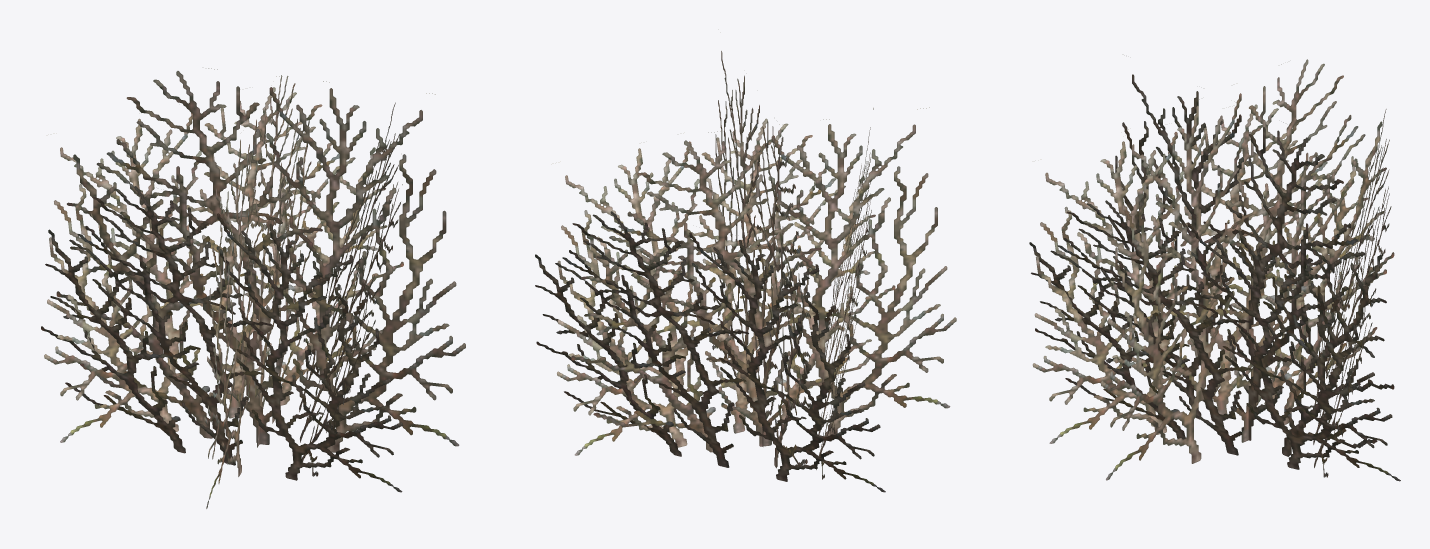
File: OZ_02_hd_grass02A.glb
The picture shows the model from 3 angles, left to right: view 1: azimuth 30°, elevation 25°; view 2: azimuth 150°, elevation 25°; view 3: azimuth 270°, elevation 25°; orthographic projection. The views are drawn at different scales.
Parts seen in each view (by area): view 1: OM_02_hd_grass02A; view 2: OM_02_hd_grass02A; view 3: OM_02_hd_grass02A.
Boxes of the visible parts, x1,y1,x2,y2 form: OM_02_hd_grass02A: (41, 68, 465, 508); OM_02_hd_grass02A: (535, 51, 956, 492); OM_02_hd_grass02A: (1029, 59, 1400, 481).
Bounding box in the file's own units: 1.7 × 1.57 × 1.67.
1 material, 1 textured.
